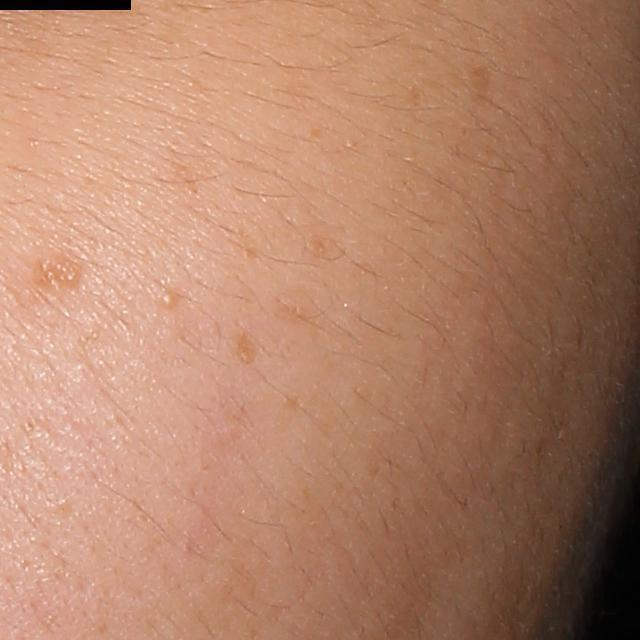comedo: (158, 288, 179, 308)
melasma: (461, 58, 495, 98), (234, 333, 266, 370)
